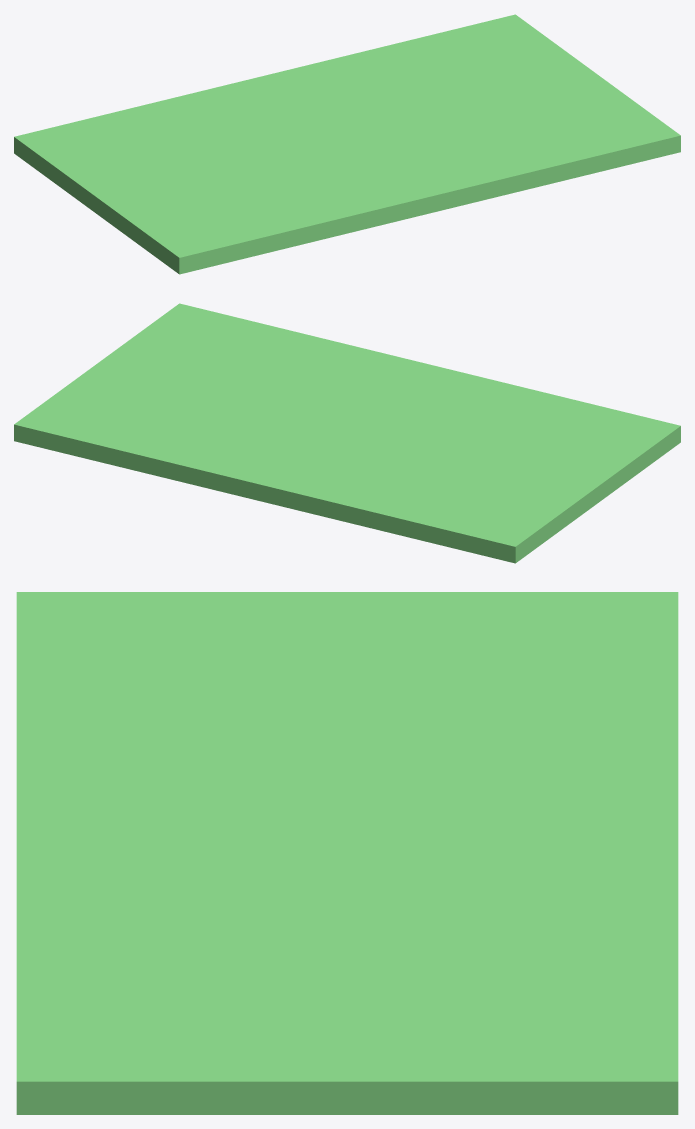
The model's file is Alçapão.fbx.
The picture shows the model from 3 angles, top to bottom: view 1: azimuth 30°, elevation 25°; view 2: azimuth 150°, elevation 25°; view 3: azimuth 270°, elevation 25°; orthographic projection. The views are drawn at different scales.
Visible parts, largest first — view 1: pCube83, pCube82; view 2: pCube82, pCube83; view 3: pCube82, pCube83.
Boxes of the visible parts, x1,y1,x2,y2 form: pCube83: (96,75,680,274); pCube82: (14,14,597,213); pCube82: (14,364,598,563); pCube83: (97,303,680,502); pCube82: (347,592,678,1114); pCube83: (16,592,347,1114).
Size of the model in its own units: 811 by 25.71 by 463.
